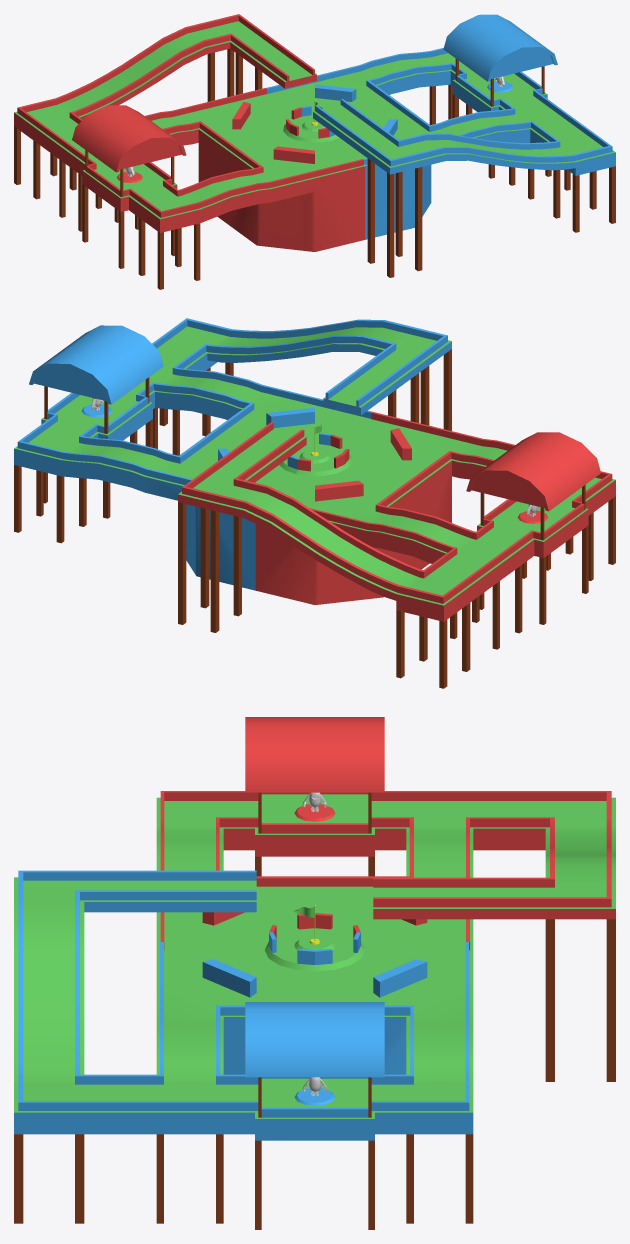
The picture shows the model from 3 angles, top to bottom: view 1: azimuth 30°, elevation 25°; view 2: azimuth 150°, elevation 25°; view 3: azimuth 270°, elevation 25°; orthographic projection. The views are drawn at different scales.
Parts seen in each view (by area): view 1: wall, floor; view 2: wall, floor; view 3: wall, floor.
Part boxes in pixels (left/top/right/bottom): wall: left=14, top=14, right=615, bottom=289; floor: left=14, top=21, right=615, bottom=219; wall: left=14, top=318, right=615, bottom=688; floor: left=14, top=326, right=615, bottom=605; wall: left=14, top=717, right=615, bottom=1229; floor: left=14, top=794, right=615, bottom=1118.
Bounding box in the file's own units: 3509 × 961 × 2635.
